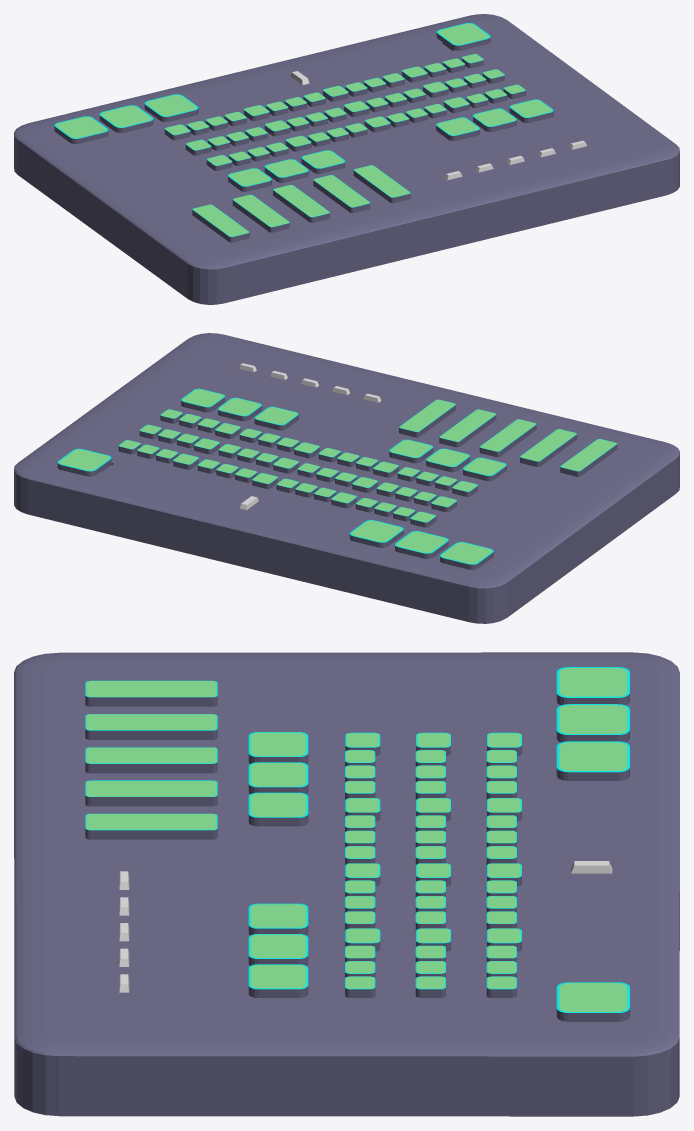
File: MixTable.fbx
3 views of the same model, one above another, from view 1: azimuth 30°, elevation 25°; view 2: azimuth 150°, elevation 25°; view 3: azimuth 270°, elevation 25° (orthographic). The views are drawn at different scales.
Parts seen in each view (by area): view 1: Base, NameScreen.005, NameScreen.001, NameScreen.003, NameScreen.004, NameScreen.002, Play.001, Play, Play.002, Play.003, Melo.002, FX.002 (+4 smaller); view 2: Base, NameScreen.002, NameScreen.003, NameScreen.005, NameScreen.004, NameScreen.001, Play.001, Play.003, Play, Play.002, Melo, FX.002 (+4 smaller); view 3: Base, NameScreen.003, NameScreen.004, NameScreen.005, NameScreen.002, NameScreen.001, Play.001, Play.003, Play.002, Play, FX.002, Melo.002 (+4 smaller).
Boxes of the visible parts, bbox=[...] form: Base: bbox=[14, 14, 679, 304]; NameScreen.005: bbox=[192, 204, 249, 242]; NameScreen.001: bbox=[232, 194, 289, 232]; NameScreen.003: bbox=[313, 175, 370, 212]; NameScreen.004: bbox=[353, 165, 410, 203]; NameScreen.002: bbox=[273, 185, 329, 222]; Play.001: bbox=[436, 23, 490, 50]; Play: bbox=[54, 116, 108, 143]; Play.002: bbox=[99, 105, 153, 132]; Play.003: bbox=[144, 94, 198, 121]; Melo.002: bbox=[509, 99, 553, 122]; FX.002: bbox=[301, 150, 345, 173]; Base: bbox=[14, 333, 679, 623]; NameScreen.002: bbox=[479, 419, 536, 457]; NameScreen.003: bbox=[439, 409, 496, 447]; NameScreen.005: bbox=[560, 439, 617, 476]; NameScreen.004: bbox=[399, 399, 455, 437]; NameScreen.001: bbox=[520, 429, 576, 466]; Play.001: bbox=[57, 448, 111, 476]; Play.003: bbox=[349, 520, 403, 547]; Play: bbox=[440, 542, 493, 569]; Play.002: bbox=[395, 531, 448, 558]; Melo: bbox=[254, 406, 298, 430]; FX.002: bbox=[389, 439, 433, 463]; Base: bbox=[14, 652, 679, 1116]; NameScreen.003: bbox=[85, 780, 217, 806]; NameScreen.004: bbox=[85, 813, 217, 839]; NameScreen.005: bbox=[85, 680, 217, 706]; NameScreen.002: bbox=[85, 747, 217, 773]; NameScreen.001: bbox=[85, 714, 217, 739]; Play.001: bbox=[556, 982, 629, 1021]; Play.003: bbox=[556, 741, 629, 780]; Play.002: bbox=[556, 704, 629, 742]; Play: bbox=[556, 667, 629, 705]; FX.002: bbox=[248, 792, 308, 826]; Melo.002: bbox=[248, 964, 308, 997].
Size of the model in its own units: 6287 by 568 by 4383.
